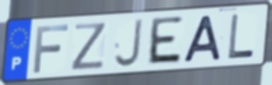A: (182, 13, 223, 64)
E: (145, 15, 185, 67)
F: (32, 23, 71, 75)
J: (113, 17, 144, 69)
L: (227, 13, 256, 60)
Z: (69, 21, 109, 72)
